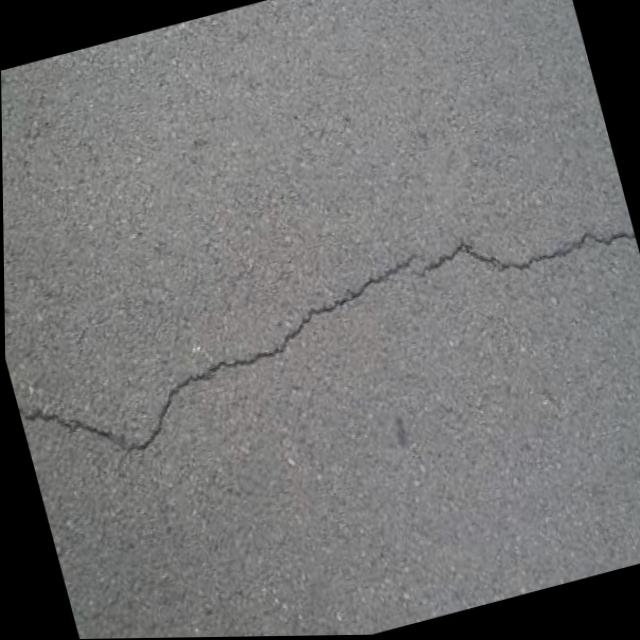Crack: (2, 179, 640, 489)
